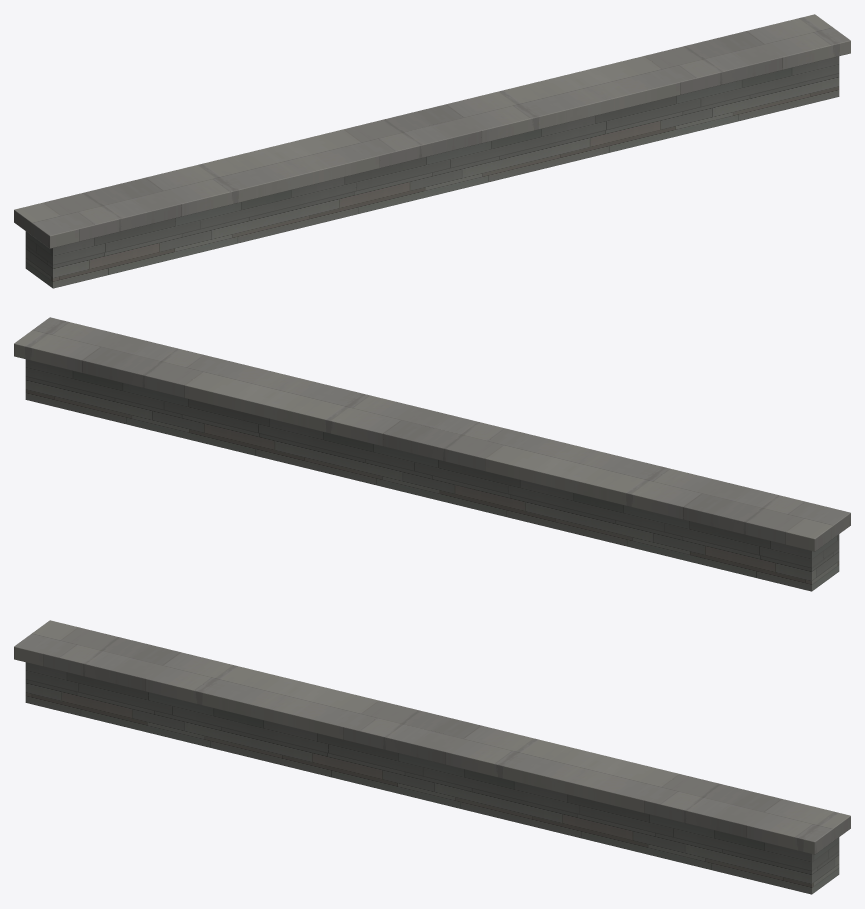
Rendered from ph_bench_long.gltf.
3 renders of one model, top to bottom at view 1: azimuth 30°, elevation 25°; view 2: azimuth 150°, elevation 25°; view 3: azimuth 330°, elevation 25°, orthographic.
Visible parts, largest first — view 1: PHBenchLong_Top, PHBenchLong_Plinth; view 2: PHBenchLong_Top, PHBenchLong_Plinth; view 3: PHBenchLong_Top, PHBenchLong_Plinth.
Boxes of the visible parts, bbox=[...] form: PHBenchLong_Top: bbox=[14, 14, 850, 248]; PHBenchLong_Plinth: bbox=[25, 56, 839, 288]; PHBenchLong_Top: bbox=[14, 317, 850, 551]; PHBenchLong_Plinth: bbox=[25, 359, 839, 591]; PHBenchLong_Top: bbox=[14, 620, 850, 854]; PHBenchLong_Plinth: bbox=[25, 662, 839, 894].
Size of the model in its own units: 6.4 by 0.44 by 0.5.
2 materials, 2 textured.
